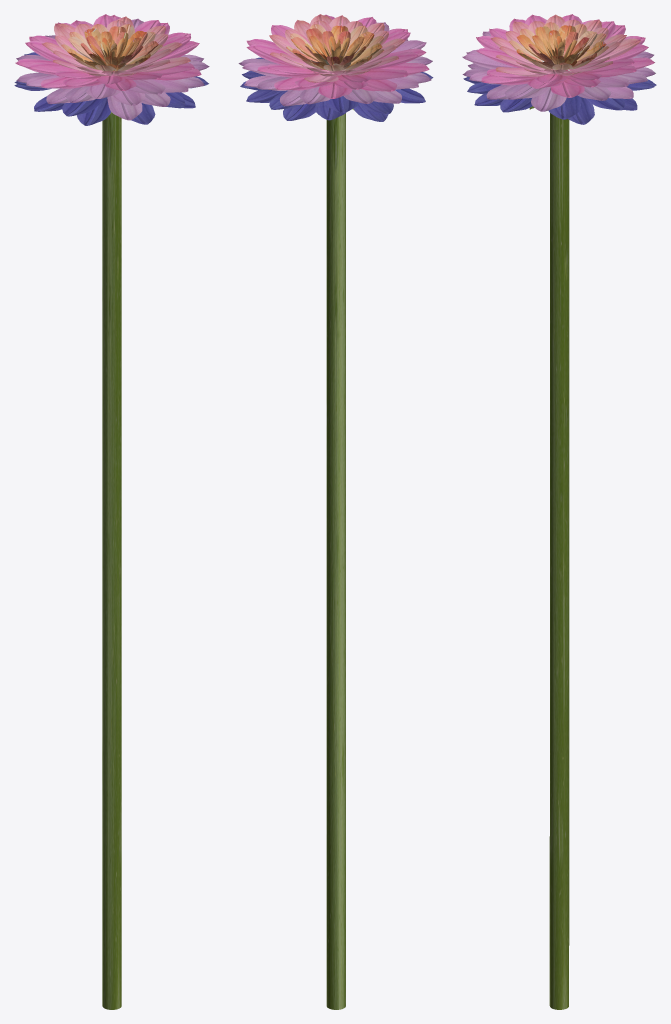
The model's file is flor_12.fbx.
The picture shows the model from 3 angles, left to right: view 1: azimuth 30°, elevation 25°; view 2: azimuth 150°, elevation 25°; view 3: azimuth 270°, elevation 25°; orthographic projection.
Parts seen in each view (by area): view 1: Plane.068; view 2: Plane.068; view 3: Plane.068.
Boxes of the visible parts, bbox=[...] form: Plane.068: bbox=[14, 14, 209, 1009]; Plane.068: bbox=[238, 14, 433, 1009]; Plane.068: bbox=[462, 14, 656, 1009].
Bounding box in the file's own units: 161 × 873 × 160.
2 materials, 2 textured.
